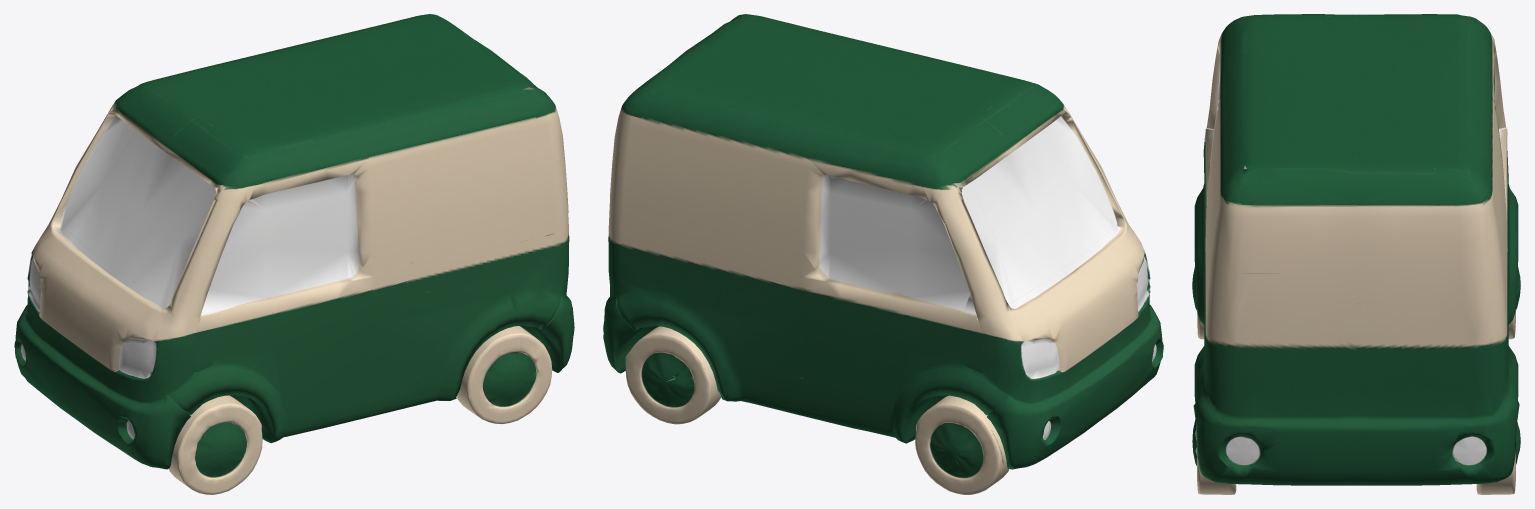
File: van.raw.glb
3 renders of one model, left to right at view 1: azimuth 30°, elevation 25°; view 2: azimuth 150°, elevation 25°; view 3: azimuth 270°, elevation 25°, orthographic. The views are drawn at different scales.
Bounding box in the file's own units: 0.9551 × 0.6348 × 0.5464.
Materials: 1 (1 with a texture image).
